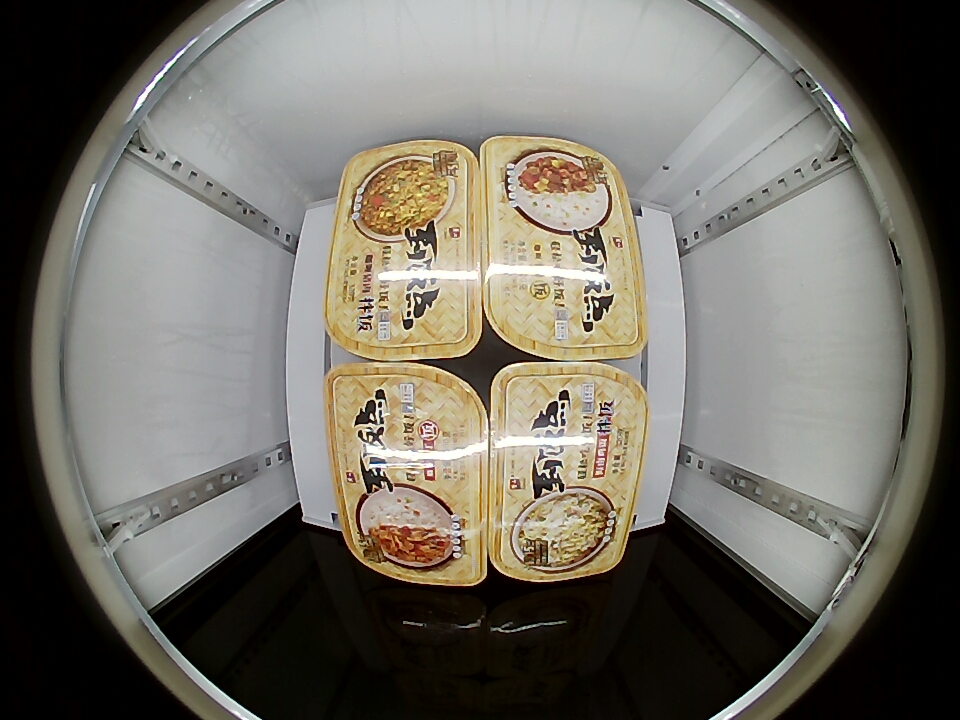daofandian1: (486, 361, 648, 584)
daofandian2: (479, 133, 646, 362)
daofandian3: (325, 138, 485, 362)
daofandian4: (324, 361, 490, 588)
